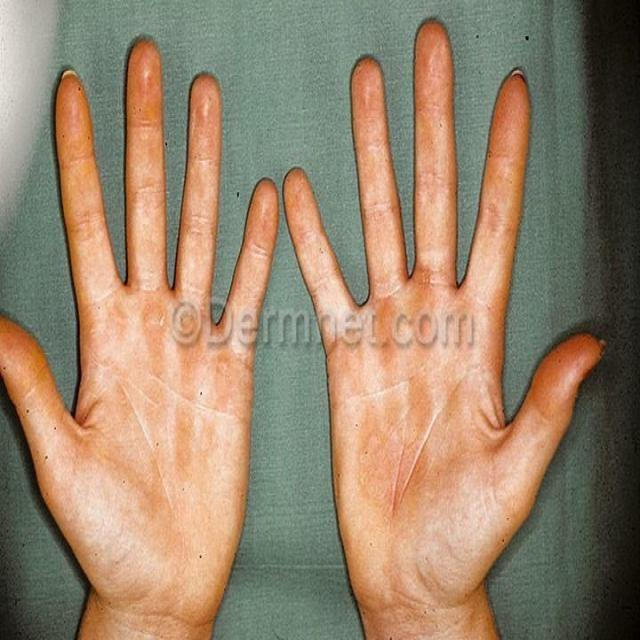Eczema: (278, 65, 556, 518), (0, 64, 256, 499)
